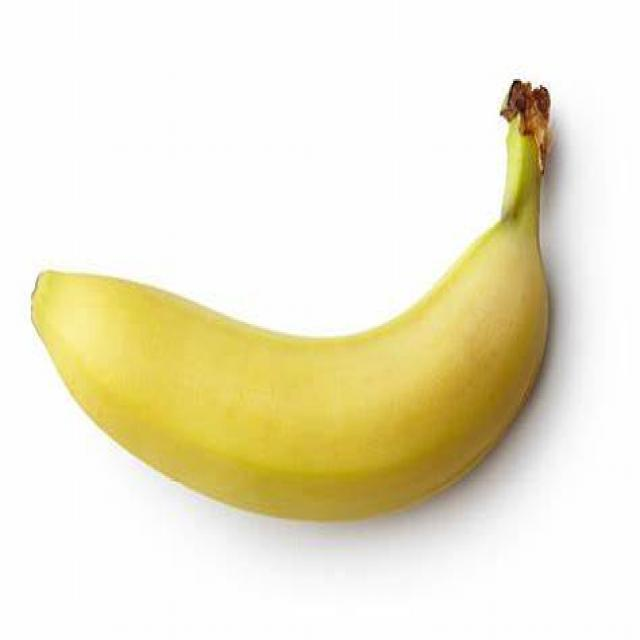Banana: (33, 81, 570, 526)
